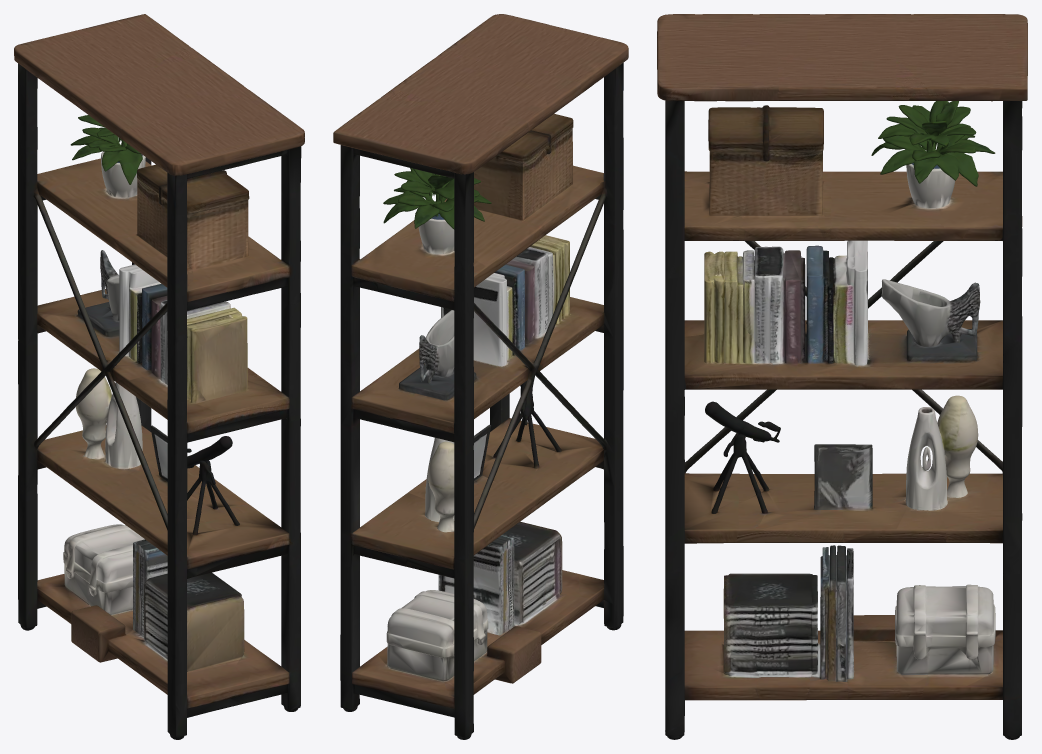
Rendered from B0BCJDN979.glb.
The picture shows the model from 3 angles, left to right: view 1: azimuth 30°, elevation 25°; view 2: azimuth 150°, elevation 25°; view 3: azimuth 270°, elevation 25°; orthographic projection. The views are drawn at different scales.
Parts seen in each view (by area): view 1: tripo_node_26603e34-2538-41a2-909b-0d5d22c8e4b5; view 2: tripo_node_26603e34-2538-41a2-909b-0d5d22c8e4b5; view 3: tripo_node_26603e34-2538-41a2-909b-0d5d22c8e4b5.
Part boxes in pixels (x1,y1,x2,y2): tripo_node_26603e34-2538-41a2-909b-0d5d22c8e4b5: (14, 14, 304, 739); tripo_node_26603e34-2538-41a2-909b-0d5d22c8e4b5: (333, 14, 628, 739); tripo_node_26603e34-2538-41a2-909b-0d5d22c8e4b5: (657, 14, 1027, 739).
Size of the model in its own units: 0.245 by 1 by 0.5123.
1 material, 1 textured.
